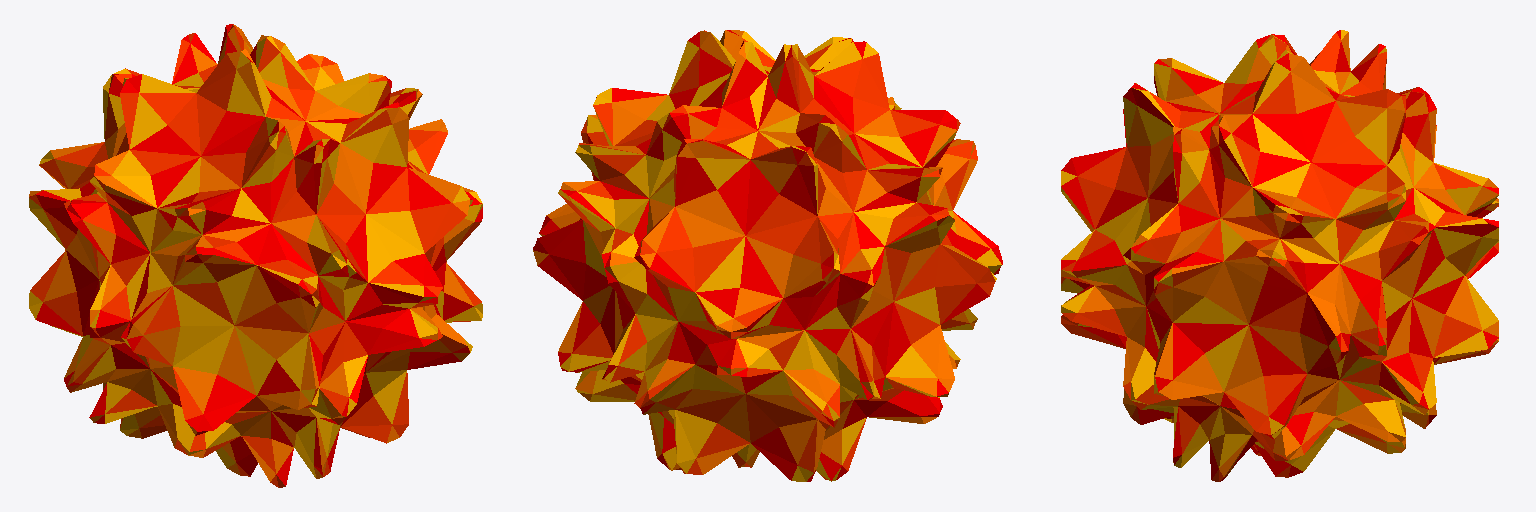
Rendered from testfc.obj.
3 views of the same model, side by side, from view 1: azimuth 30°, elevation 25°; view 2: azimuth 150°, elevation 25°; view 3: azimuth 270°, elevation 25° (orthographic).
Visible parts, largest first — view 1: 0; view 2: 0; view 3: 0.
Part boxes in pixels (x1,y1,x2,y2): 0: (29,24,482,487); 0: (533,30,1002,481); 0: (1061,30,1498,481).
Bounding box in the file's own units: 610 × 630 × 588.